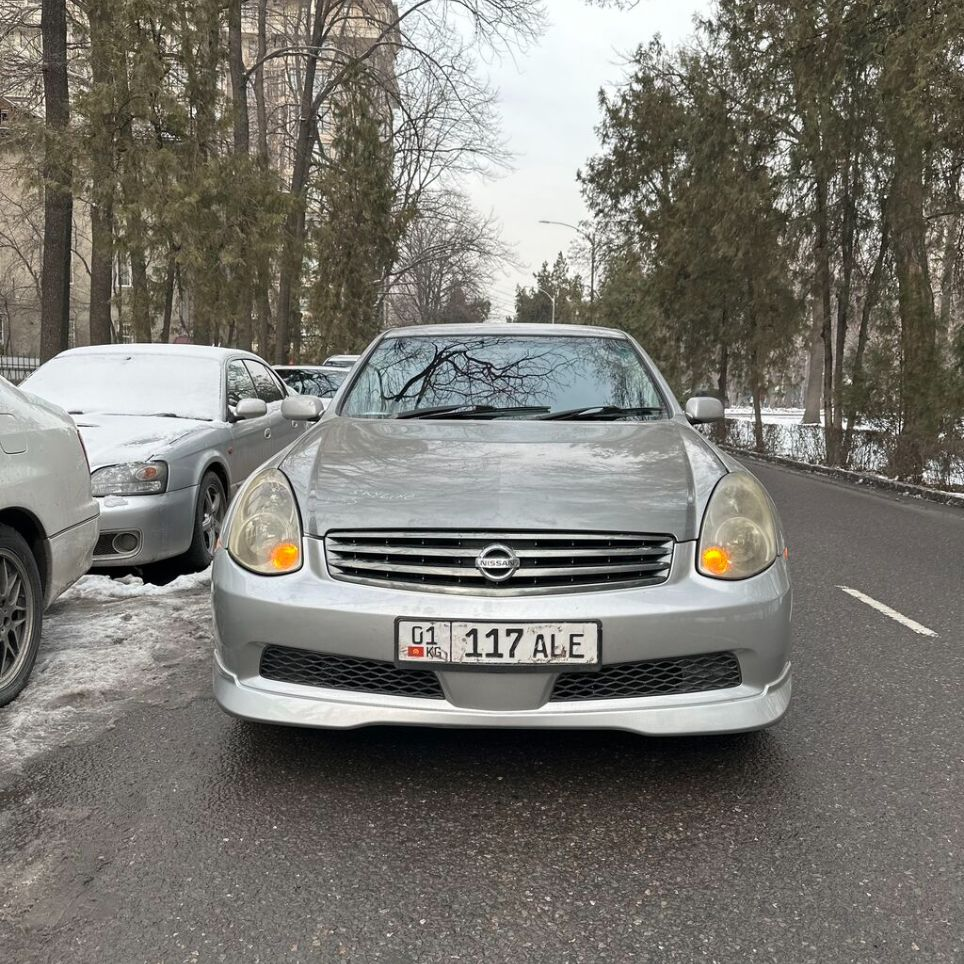license plate: (395, 617, 602, 667)
truck: (206, 323, 799, 744)
